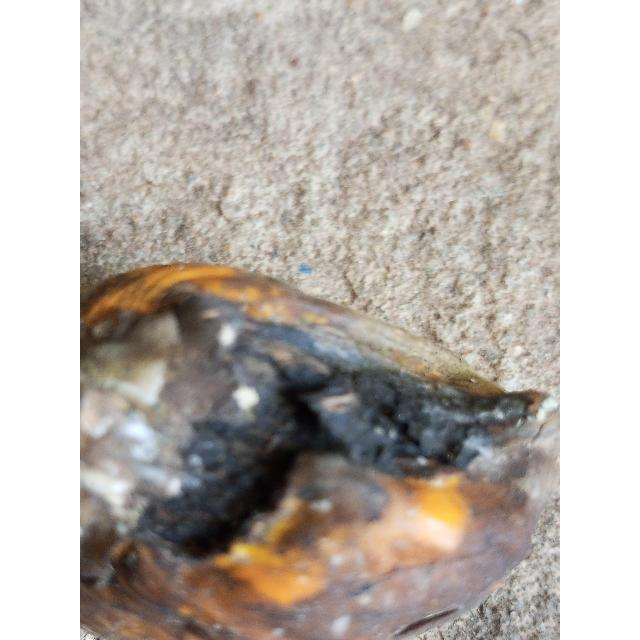damaged: (80, 263, 560, 640)
